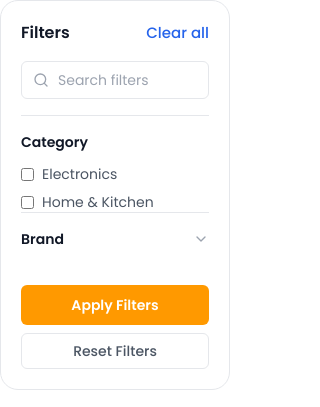
it: ProductFilterSidebar › the filter-search input narrows visible category options by label
The width and height of the screenshot is (320, 407).
Type "home" into the search field labelled "Search filters" at (115, 80), box x1=21 y1=61 x2=209 y2=99
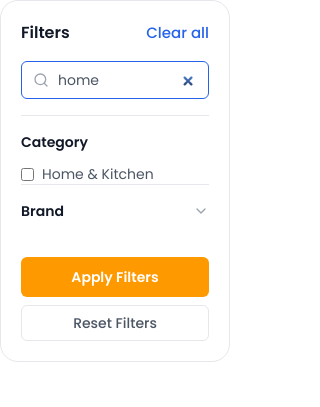
Expected: the checkbox labelled "Home & Kitchen" is shown, x1=21 y1=168 x2=34 y2=180
Expected: the label "Electronics" is gone
